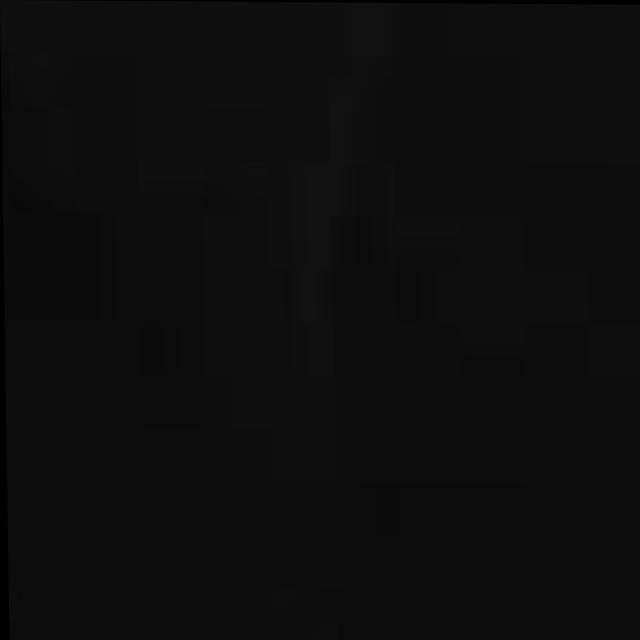fracture: (2, 3, 640, 640)
